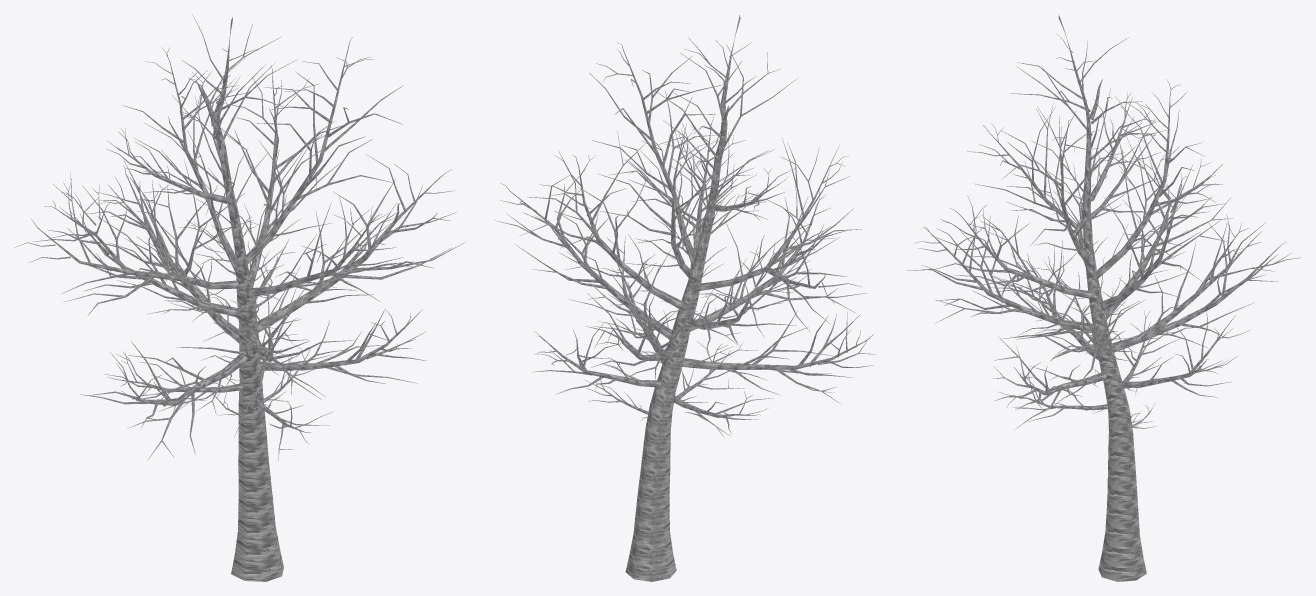
The model's file is Tree.gltf.
3 renders of one model, left to right at view 1: azimuth 30°, elevation 25°; view 2: azimuth 150°, elevation 25°; view 3: azimuth 270°, elevation 25°, orthographic. The views are drawn at different scales.
Visible parts, largest first — view 1: tree; view 2: tree; view 3: tree.
Part boxes in pixels (bbox=[...]): tree: bbox=[14, 14, 465, 581]; tree: bbox=[494, 15, 875, 581]; tree: bbox=[906, 15, 1300, 581].
Size of the model in its own units: 6.37 by 8.83 by 5.96.
Materials: 2 (2 with a texture image).
